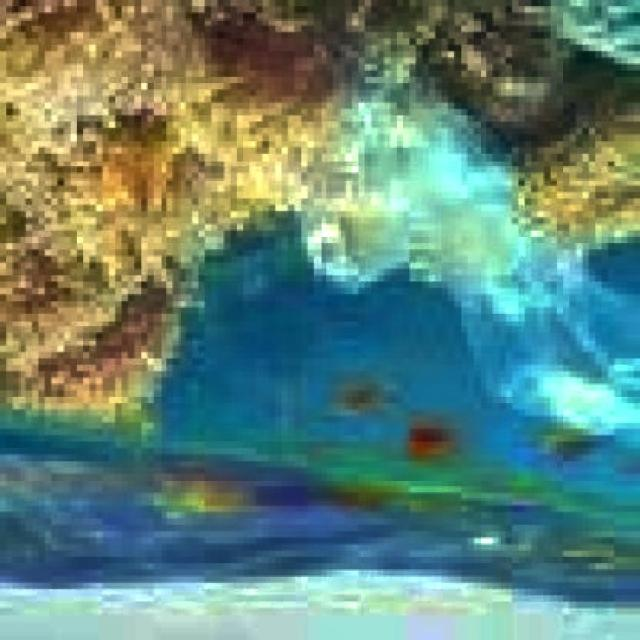pbag: (294, 7, 640, 455)
